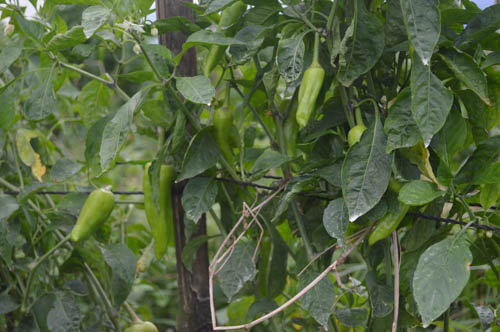ChiliPepper: (202, 5, 246, 79), (143, 165, 169, 257), (70, 190, 112, 242), (297, 69, 323, 129), (213, 111, 236, 160)
